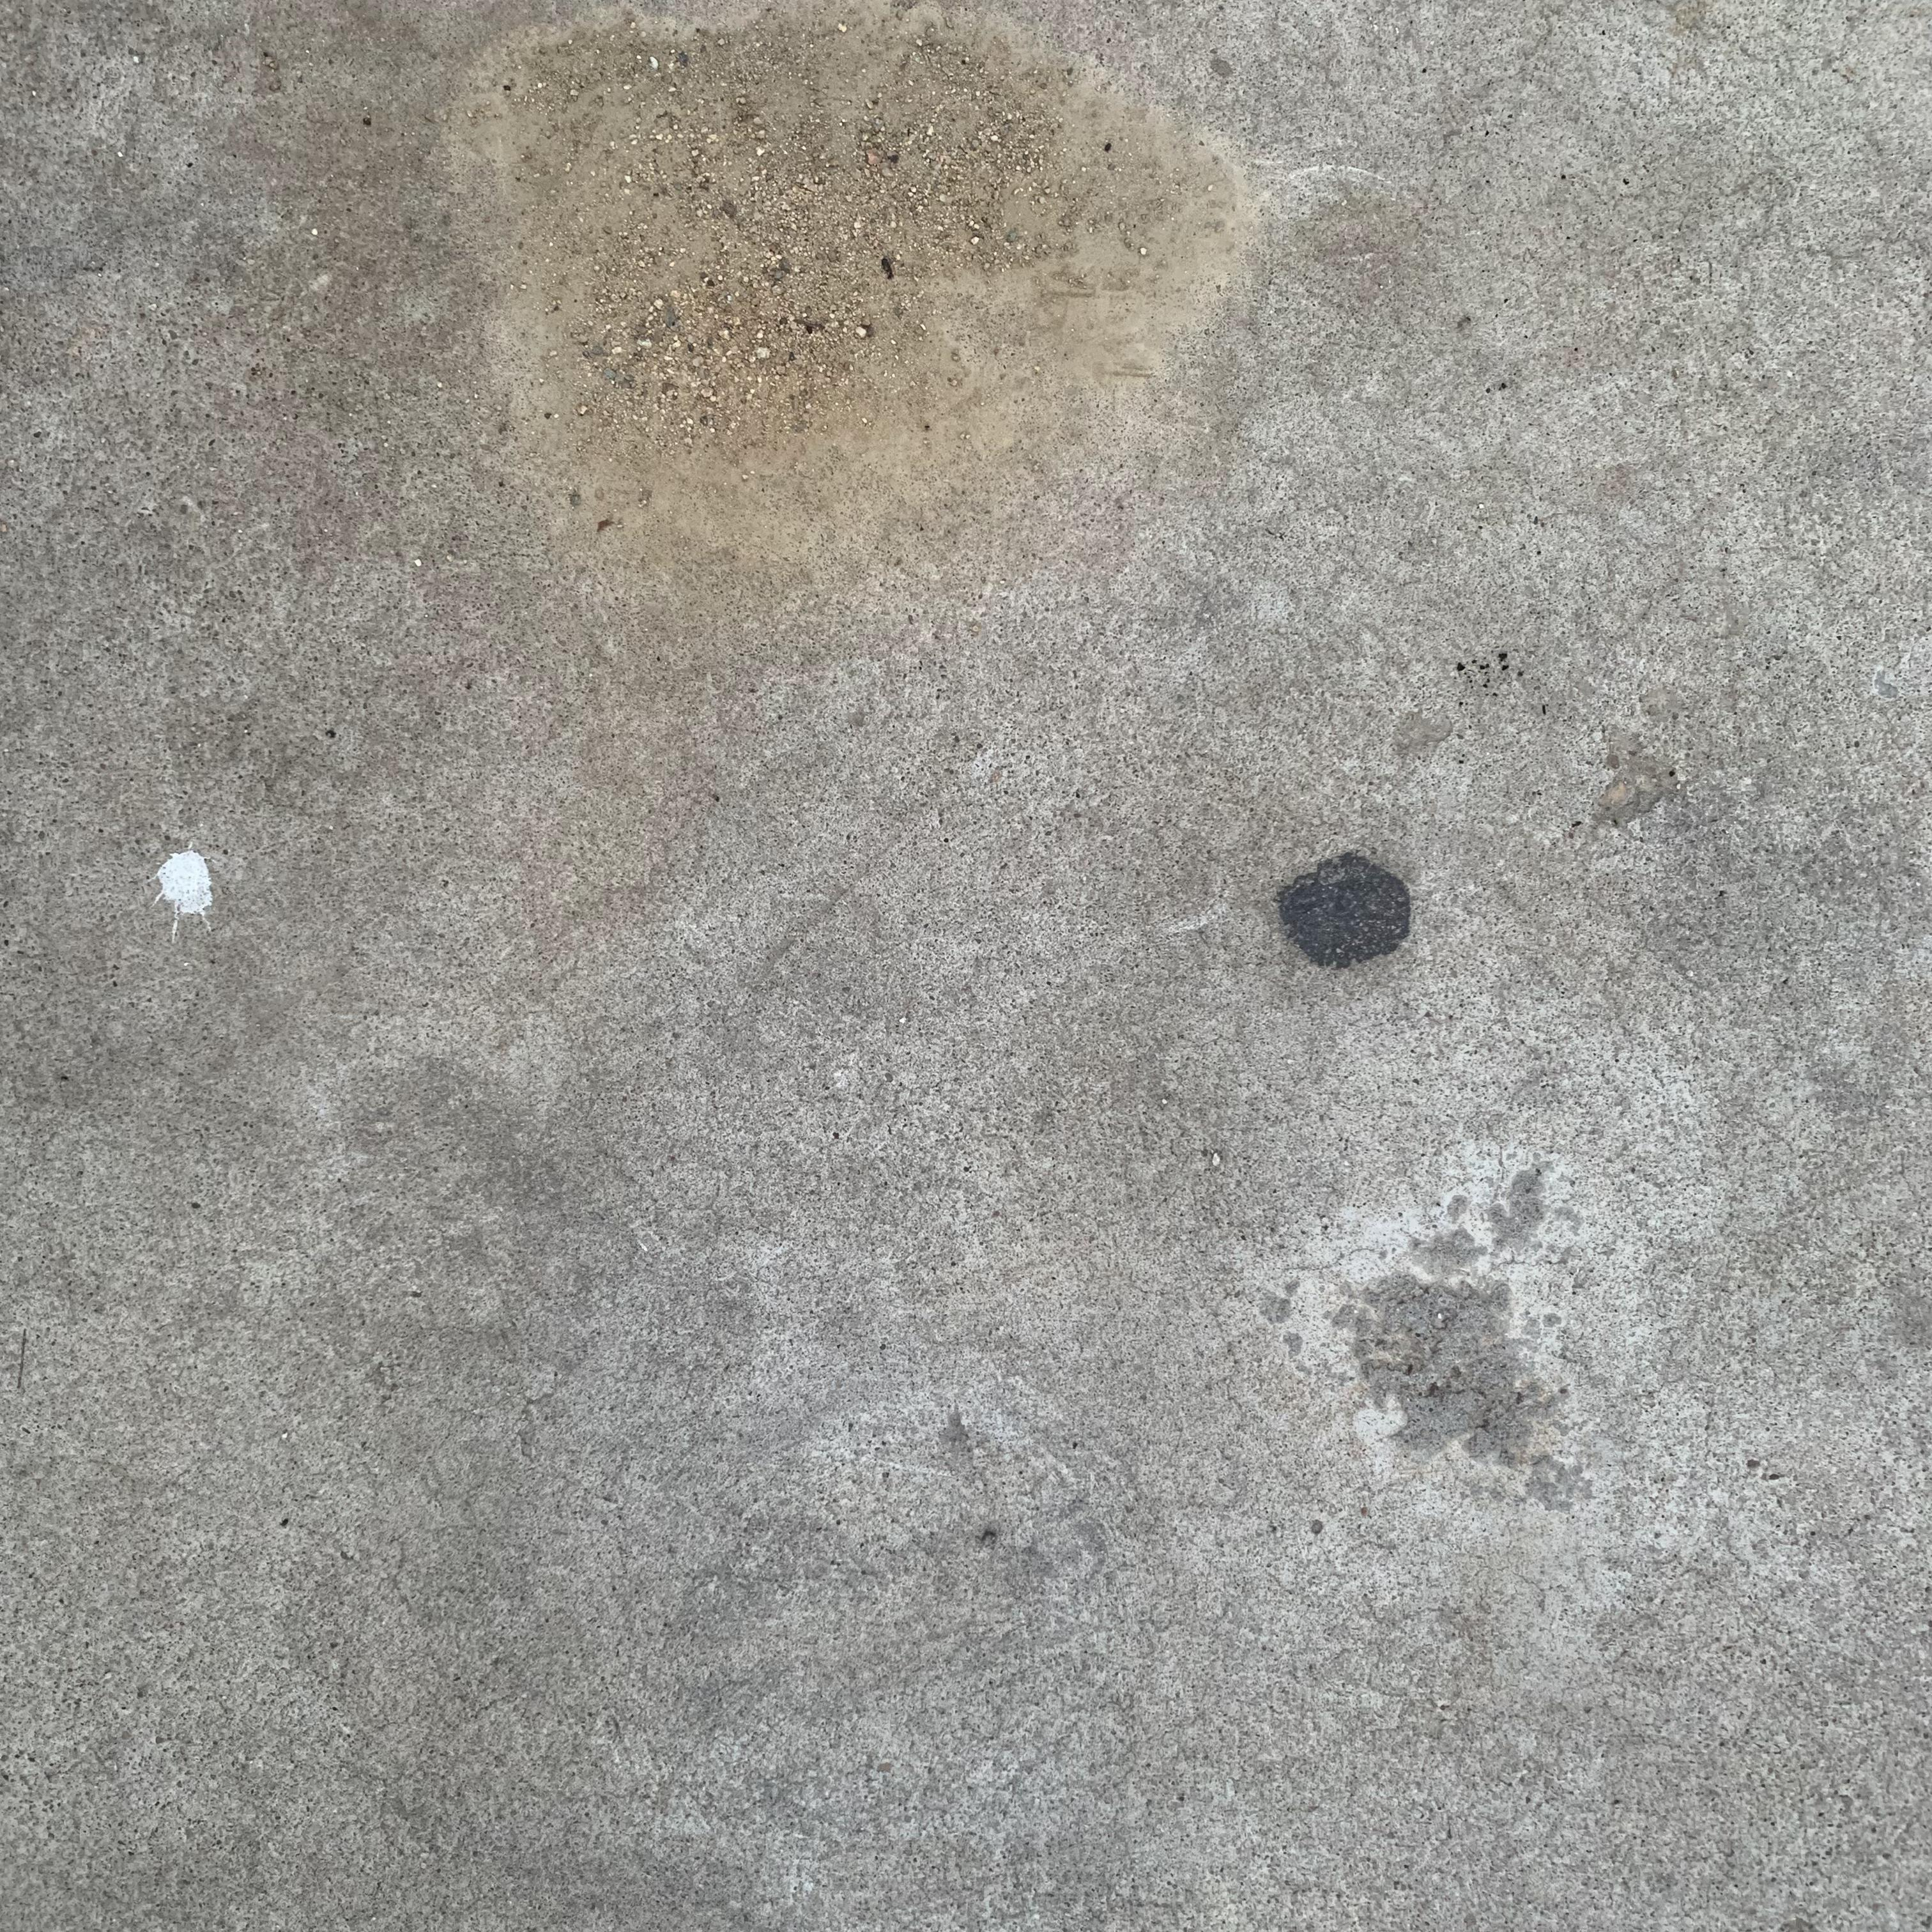ash pile: (453, 14, 1258, 566)
grey spot: (1345, 1162, 1596, 1507), (1270, 847, 1417, 966), (145, 851, 218, 945)
